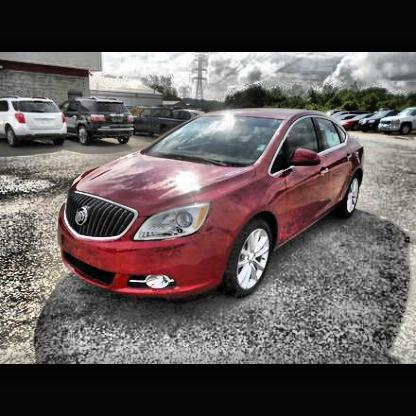Buick Verano Sedan 2012: (56, 109, 369, 302)
